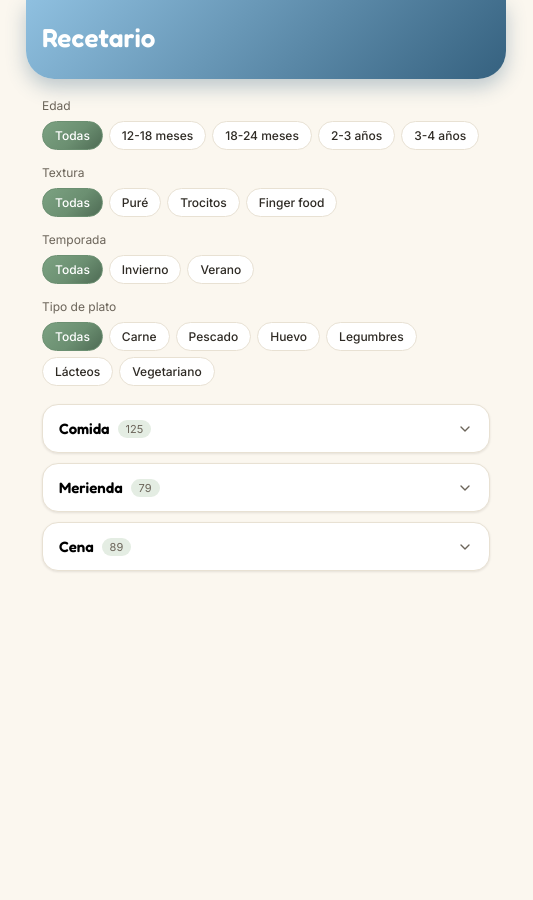
Test: Recetario — acordeones por comida › abrir el acordeón de Merienda muestra sus recetas
Click the text "Merienda" at (91, 488), box 59,478 -> 123,497
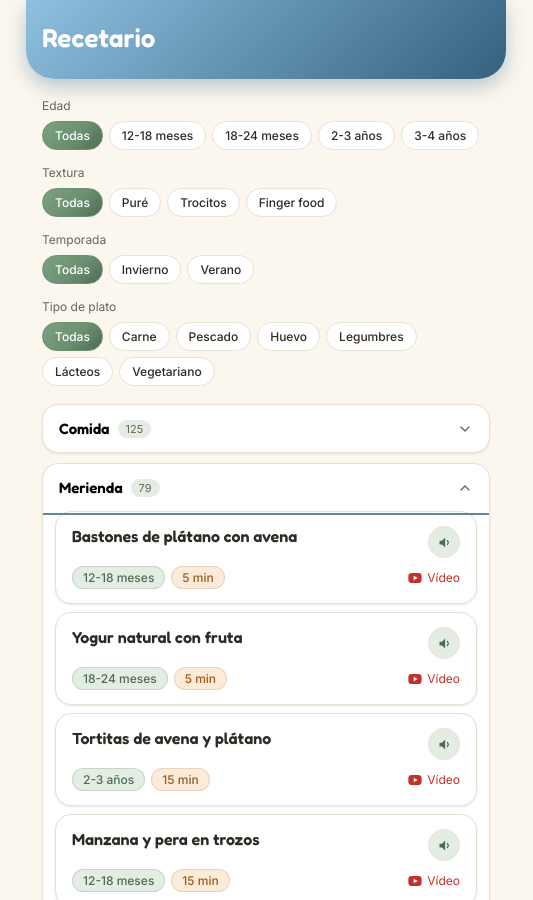
Now the heading "Bastones de plátano con avena" is shown, box 72,526 -> 297,546
